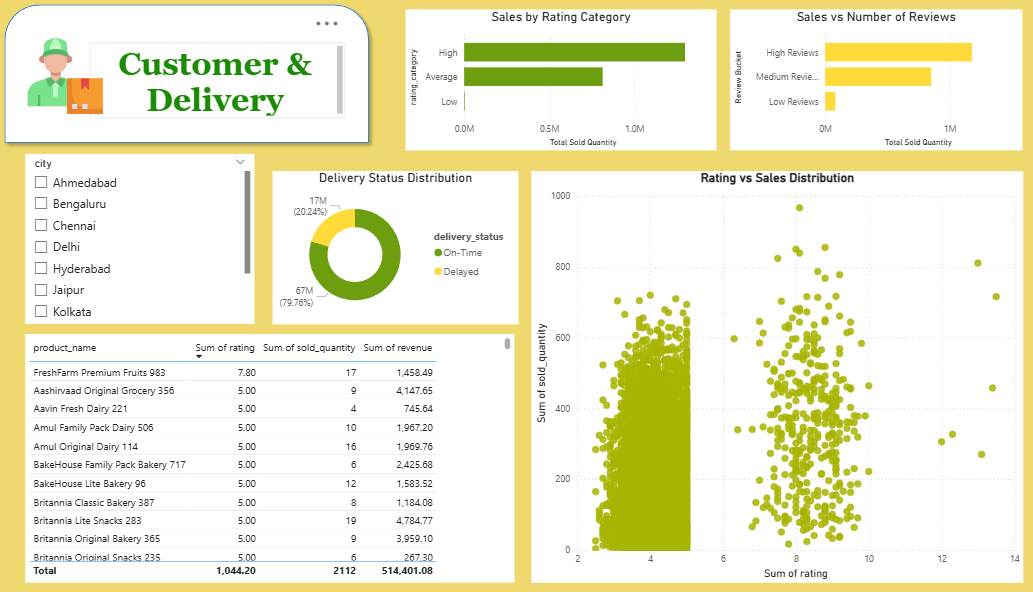

The dashboard page shown, as its layout file describes it:
{"tool":"powerbi","page":{"name":"customer and delivery","canvas":[1400,800],"ordinal":2},"visuals":[{"type":"shape","box":[0,0,507.6,203.7],"z":0},{"type":"textbox","box":[122.5,58.9,345.3,103.4],"z":1000},{"type":"image","box":[35,46.1,109.8,116.2],"z":2000},{"type":"clusteredBarChart","title":"Sales vs Number of Reviews","fields":{"Category":["cleaned_blinkit_data.Review Bucket"],"Y":["cleaned_blinkit_data.Total Sold Quantity"]},"box":[985,15.9,393.1,189.4],"z":3000},{"type":"clusteredBarChart","title":"Sales by Rating Category","fields":{"Category":["cleaned_blinkit_data.rating_category"],"Y":["cleaned_blinkit_data.Total Sold Quantity"]},"box":[547.4,15.9,418.5,189.4],"z":4000},{"type":"donutChart","title":"Delivery Status Distribution","fields":{"Category":["cleaned_blinkit_data.delivery_status"],"Y":["Sum(cleaned_blinkit_data.product_id)"]},"box":[368.6,232.5,330.8,206.1],"z":5000},{"type":"scatterChart","title":"Rating vs Sales Distribution","fields":{"X":["Sum(cleaned_blinkit_data.rating)"],"Y":["Sum(cleaned_blinkit_data.sold_quantity)"],"Category":["cleaned_blinkit_data.product_name"]},"box":[716.5,232.5,661.6,553.9],"z":6000},{"type":"tableEx","fields":{"Values":["cleaned_blinkit_data.product_name","Sum(cleaned_blinkit_data.rating)","Sum(cleaned_blinkit_data.sold_quantity)","Sum(cleaned_blinkit_data.revenue)"]},"box":[35.9,451.8,657.9,334.6],"z":7000},{"type":"slicer","fields":{"Values":["cleaned_blinkit_data.city"]},"box":[35.9,209.8,308.1,228.7],"z":7001}]}

Visuals, with their boxes in screenshot pixels (x1, y1, x2, y2), scaled from the page's 1400x800 canvas onto the 1033x592 screenshot:
shape: 0 0 375 151
textbox: 90 44 345 120
image: 26 34 107 120
"Sales vs Number of Reviews" clusteredBarChart: 727 12 1017 152
"Sales by Rating Category" clusteredBarChart: 404 12 713 152
"Delivery Status Distribution" donutChart: 272 172 516 325
"Rating vs Sales Distribution" scatterChart: 529 172 1017 582
tableEx - cleaned_blinkit_data.product_name x Sum(cleaned_blinkit_data.rating): 26 334 512 582
slicer - cleaned_blinkit_data.city: 26 155 254 324
